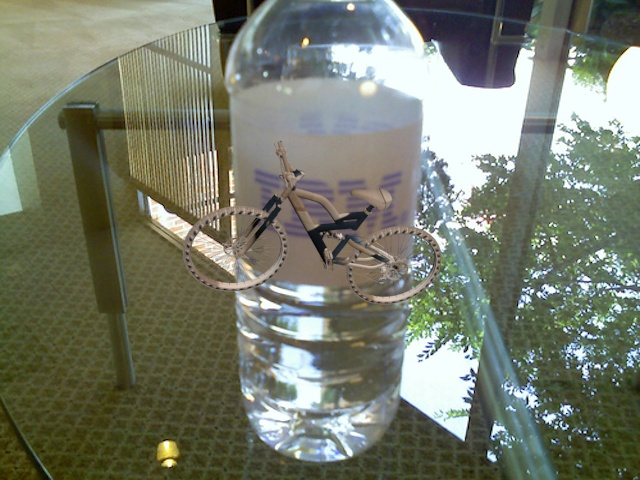bike: (176, 129, 448, 312)
